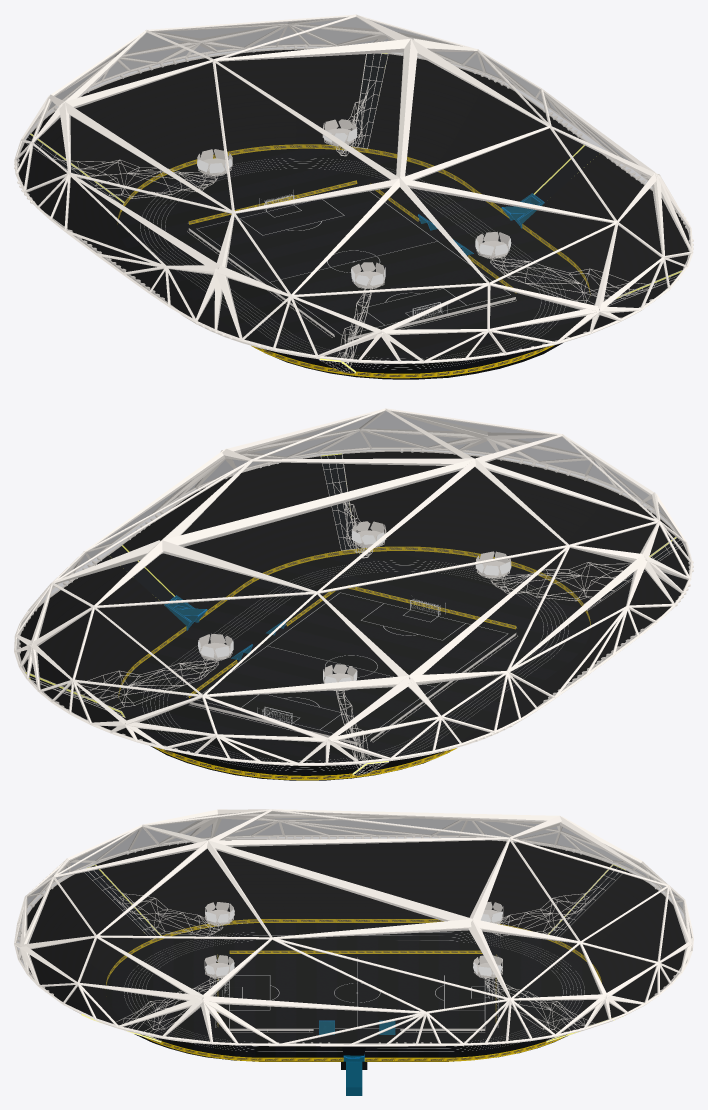
File: stadium.glb
3 renders of one model, top to bottom at view 1: azimuth 30°, elevation 25°; view 2: azimuth 150°, elevation 25°; view 3: azimuth 270°, elevation 25°, orthographic. The views are drawn at different scales.
Parts seen in each view (by area): view 1: Glow Stadium_Roof Glass_0, Glow Stadium_Glass Walls_0, Glow Stadium_Field_0, Glow Stadium_Metal Black_0, Glow Stadium_Field Markup_0, Glow Stadium_Glass Wall Edges_0, Glow Stadium_Back Banners_0, Glow Stadium_Field Banners_0, Glow Stadium_Tower Screen 02_0, Glow Stadium_Entrance_0; view 2: Glow Stadium_Roof Glass_0, Glow Stadium_Field_0, Glow Stadium_Glass Walls_0, Glow Stadium_Metal Black_0, Glow Stadium_Field Markup_0, Glow Stadium_Back Banners_0, Glow Stadium_Glass Wall Edges_0, Glow Stadium_Field Banners_0, Glow Stadium_Entrance_0, Glow Stadium_Tower Screen 02_0; view 3: Glow Stadium_Roof Glass_0, Glow Stadium_Glass Walls_0, Glow Stadium_Field_0, Glow Stadium_Metal Black_0, Glow Stadium_Back Banners_0, Glow Stadium_Field Markup_0, Glow Stadium_Glass Wall Edges_0, Glow Stadium_Entrance_0, Glow Stadium_Field Banners_0, Glow Stadium_Tower Screen 02_0.
Boxes of the visible parts, bbox=[...] form: Glow Stadium_Roof Glass_0: bbox=[16, 17, 690, 360]; Glow Stadium_Glass Walls_0: bbox=[18, 49, 689, 354]; Glow Stadium_Field_0: bbox=[118, 148, 590, 379]; Glow Stadium_Metal Black_0: bbox=[14, 14, 693, 373]; Glow Stadium_Field Markup_0: bbox=[140, 158, 565, 369]; Glow Stadium_Glass Wall Edges_0: bbox=[26, 53, 679, 372]; Glow Stadium_Back Banners_0: bbox=[117, 144, 590, 378]; Glow Stadium_Field Banners_0: bbox=[188, 180, 516, 293]; Glow Stadium_Tower Screen 02_0: bbox=[209, 128, 511, 285]; Glow Stadium_Entrance_0: bbox=[418, 193, 544, 255]; Glow Stadium_Roof Glass_0: bbox=[16, 410, 690, 762]; Glow Stadium_Field_0: bbox=[118, 551, 590, 780]; Glow Stadium_Glass Walls_0: bbox=[19, 451, 689, 756]; Glow Stadium_Metal Black_0: bbox=[14, 408, 693, 775]; Glow Stadium_Field Markup_0: bbox=[142, 560, 568, 771]; Glow Stadium_Back Banners_0: bbox=[118, 546, 590, 780]; Glow Stadium_Glass Wall Edges_0: bbox=[29, 454, 683, 774]; Glow Stadium_Field Banners_0: bbox=[188, 585, 516, 697]; Glow Stadium_Entrance_0: bbox=[164, 595, 286, 660]; Glow Stadium_Tower Screen 02_0: bbox=[200, 532, 511, 683]; Glow Stadium_Roof Glass_0: bbox=[16, 811, 691, 1043]; Glow Stadium_Glass Walls_0: bbox=[21, 840, 685, 1042]; Glow Stadium_Field_0: bbox=[105, 923, 600, 1069]; Glow Stadium_Metal Black_0: bbox=[14, 809, 693, 1046]; Glow Stadium_Back Banners_0: bbox=[105, 919, 601, 1061]; Glow Stadium_Field Markup_0: bbox=[124, 932, 584, 1051]; Glow Stadium_Glass Wall Edges_0: bbox=[85, 865, 625, 1055]; Glow Stadium_Entrance_0: bbox=[319, 1020, 395, 1095]; Glow Stadium_Field Banners_0: bbox=[217, 950, 496, 1026]; Glow Stadium_Tower Screen 02_0: bbox=[205, 911, 502, 976].
Size of the model in its own units: 761 by 230 by 1038.
12 materials, 7 textured.
